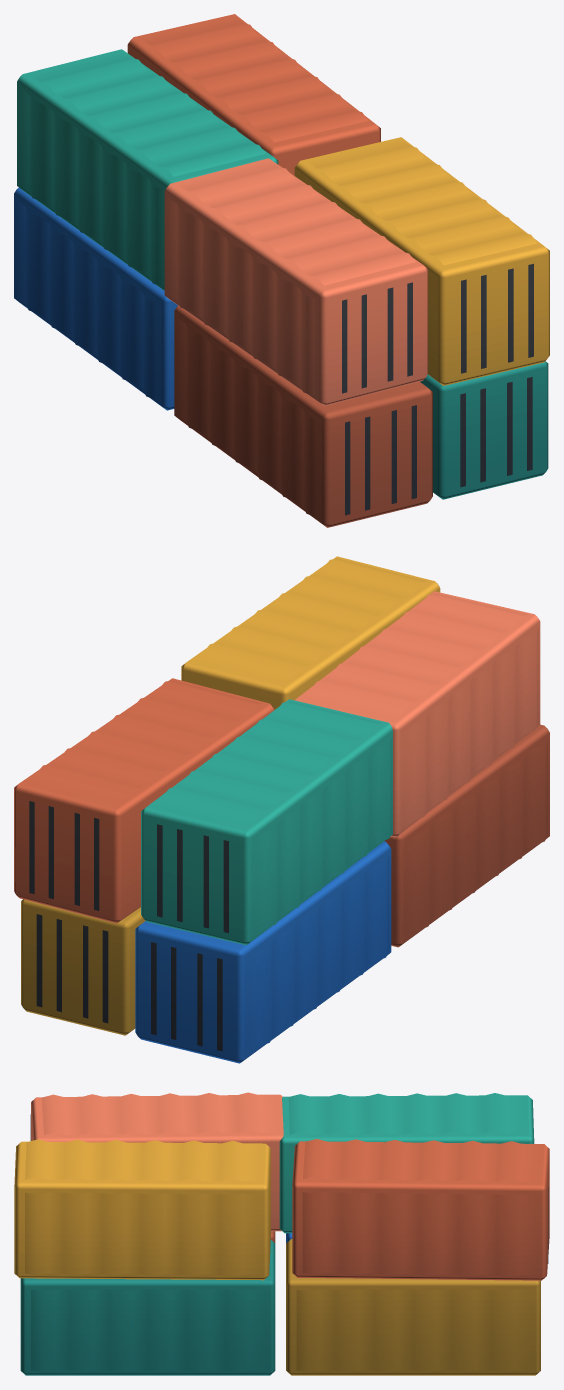
Rendered from container-stack.glb.
3 renders of one model, top to bottom at view 1: azimuth 30°, elevation 25°; view 2: azimuth 150°, elevation 25°; view 3: azimuth 270°, elevation 25°, orthographic. The views are drawn at different scales.
Visible parts, largest first — view 1: container-stack Terracotta, container-stack Teal, container-stack Coral, container-stack Mustard, container-stack Kestrel sky, container-stack Gunmetal; view 2: container-stack Terracotta, container-stack Teal, container-stack Coral, container-stack Mustard, container-stack Kestrel sky, container-stack Gunmetal; view 3: container-stack Mustard, container-stack Teal, container-stack Terracotta, container-stack Coral.
Part boxes in pixels (x1,y1,x2,y2): container-stack Terracotta: (127, 14, 432, 527); container-stack Teal: (17, 49, 548, 499); container-stack Coral: (164, 158, 427, 406); container-stack Mustard: (294, 137, 549, 385); container-stack Kestrel sky: (14, 187, 177, 410); container-stack Gunmetal: (342, 263, 533, 515); container-stack Terracotta: (14, 678, 549, 947); container-stack Teal: (141, 699, 392, 945); container-stack Coral: (295, 591, 540, 837); container-stack Mustard: (21, 556, 440, 1035); container-stack Kestrel sky: (135, 841, 391, 1063); container-stack Gunmetal: (29, 801, 228, 1051); container-stack Mustard: (14, 1139, 540, 1375); container-stack Teal: (20, 1093, 534, 1375); container-stack Terracotta: (270, 1139, 549, 1280); container-stack Coral: (31, 1092, 283, 1231).
Size of the model in its own units: 2.18 by 2.04 by 5.05.
6 materials, 6 textured.
